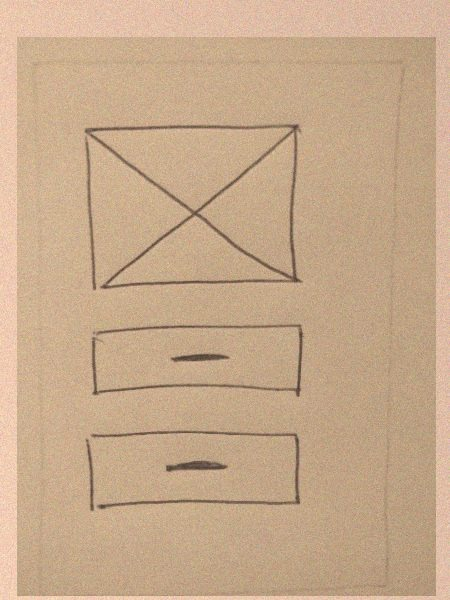button: (78, 424, 308, 519), (82, 320, 305, 400)
image: (79, 115, 309, 297)
